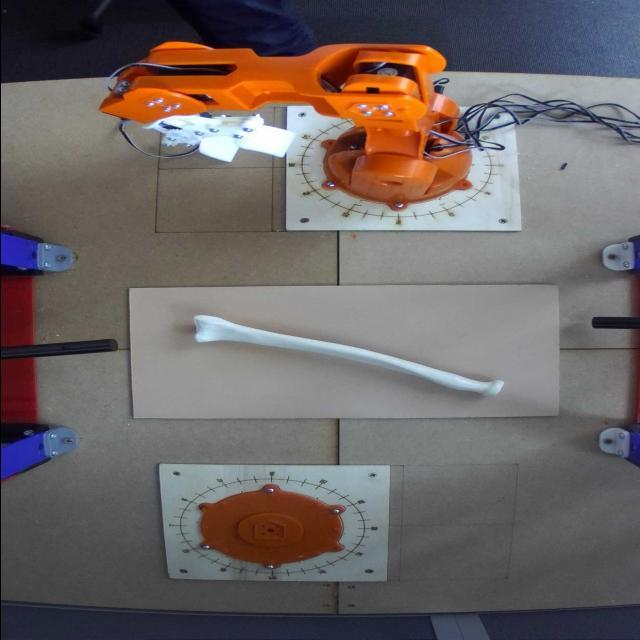bone: (186, 309, 506, 401)
